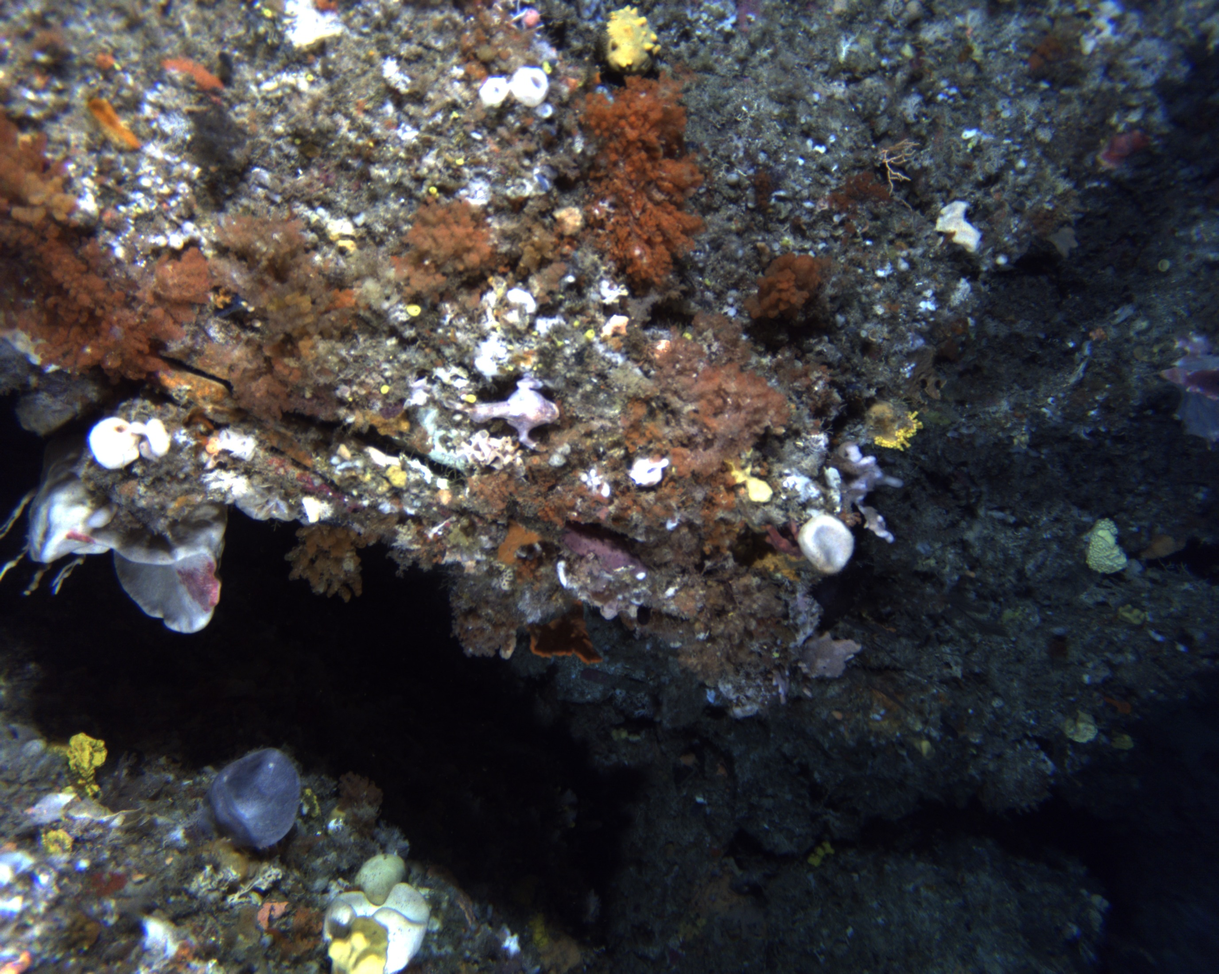Brachionichthyidae: (433, 373, 564, 454)
